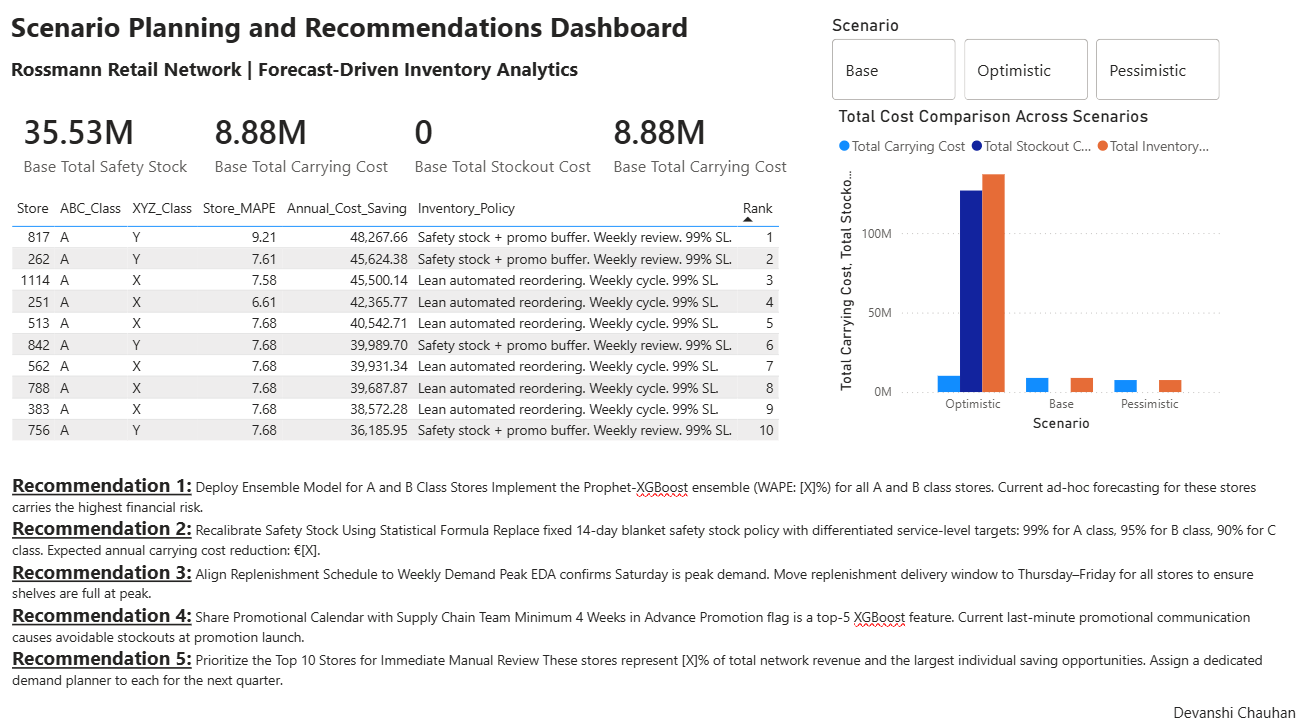

Layout of this report page (visuals, bound fields, positions):
{"tool":"powerbi","page":{"name":"Scenario Planning and Recommendations","canvas":[1280,720],"ordinal":3},"visuals":[{"type":"textbox","box":[8.6,9.8,683.6,51.4],"z":0},{"type":"textbox","box":[8.6,56.3,574.7,39.1],"z":1000},{"type":"textbox","box":[1145.8,688.5,134.5,31.8],"z":2000},{"type":"tableEx","fields":{"Values":["pb_top10_opportunities.Store","pb_top10_opportunities.ABC_Class","pb_top10_opportunities.XYZ_Class","pb_top10_opportunities.Store_MAPE","pb_top10_opportunities.Annual_Cost_Saving","pb_top10_opportunities.Inventory_Policy","pb_top10_opportunities.Rank"]},"box":[8.6,194.4,803.4,261.7],"z":3000},{"type":"advancedSlicerVisual","fields":{"Values":["pb_scenario_analysis.Scenario"]},"box":[812,20.8,390.1,89.3],"z":4000},{"type":"cardVisual","fields":{"Data":["pb_scenario_analysis.Base Total Safety Stock"]},"box":[8.6,90.5,203,111.3],"z":5000},{"type":"cardVisual","fields":{"Data":["pb_scenario_analysis.Base Total Carrying Cost"]},"box":[195.7,90.5,225,111.3],"z":6000},{"type":"cardVisual","fields":{"Data":["pb_scenario_analysis.Base Total Stockout Cost"]},"box":[391.3,90.5,217.7,111.3],"z":7000},{"type":"cardVisual","fields":{"Data":["pb_scenario_analysis.Base Total Carrying Cost"]},"box":[585.7,90.5,212.8,111.3],"z":8000},{"type":"clusteredColumnChart","title":"Total Cost Comparison Across Scenarios","fields":{"Category":["pb_scenario_analysis.Scenario"],"Y":["pb_scenario_analysis.Total Carrying Cost","pb_scenario_analysis.Total Stockout Cost","pb_scenario_analysis.Total Inventory Cost"]},"box":[818.1,110.1,384,324.1],"z":9000},{"type":"textbox","box":[9.8,463.5,1260.7,225],"z":10000}]}

Visuals, with their boxes in screenshot pixels (x1, y1, x2, y2), scaled from the page's 1280x720 canvas onto the 1300x722 screenshot:
textbox: bbox(9, 10, 703, 61)
textbox: bbox(9, 56, 592, 96)
textbox: bbox(1164, 690, 1299, 721)
tableEx - pb_top10_opportunities.Store x pb_top10_opportunities.ABC_Class: bbox(9, 195, 825, 457)
advancedSlicerVisual - pb_scenario_analysis.Scenario: bbox(825, 21, 1221, 110)
cardVisual - pb_scenario_analysis.Base Total Safety Stock: bbox(9, 91, 215, 202)
cardVisual - pb_scenario_analysis.Base Total Carrying Cost: bbox(199, 91, 427, 202)
cardVisual - pb_scenario_analysis.Base Total Stockout Cost: bbox(397, 91, 619, 202)
cardVisual - pb_scenario_analysis.Base Total Carrying Cost: bbox(595, 91, 811, 202)
"Total Cost Comparison Across Scenarios" clusteredColumnChart: bbox(831, 110, 1221, 435)
textbox: bbox(10, 465, 1290, 690)
